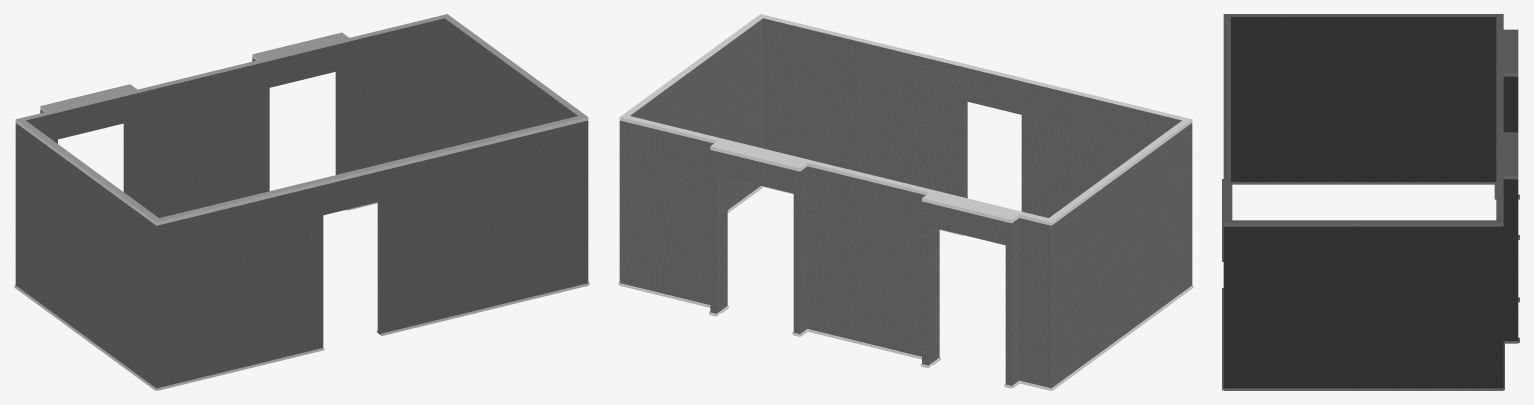
File: FP326:StandardWallSize_021_11c20fd9.obj
3 views of the same model, side by side, from view 1: azimuth 30°, elevation 25°; view 2: azimuth 150°, elevation 25°; view 3: azimuth 270°, elevation 25° (orthographic).
Visible parts, largest first — view 1: FP326:StandardWallSize.021_11c20fd9; view 2: FP326:StandardWallSize.021_11c20fd9; view 3: FP326:StandardWallSize.021_11c20fd9.
Boxes of the visible parts, <box> form: FP326:StandardWallSize.021_11c20fd9: <box>14,14,589,390</box>; FP326:StandardWallSize.021_11c20fd9: <box>618,14,1193,390</box>; FP326:StandardWallSize.021_11c20fd9: <box>1222,14,1519,390</box>.
Size of the model in its own units: 6.76 by 2.5 by 4.04.
